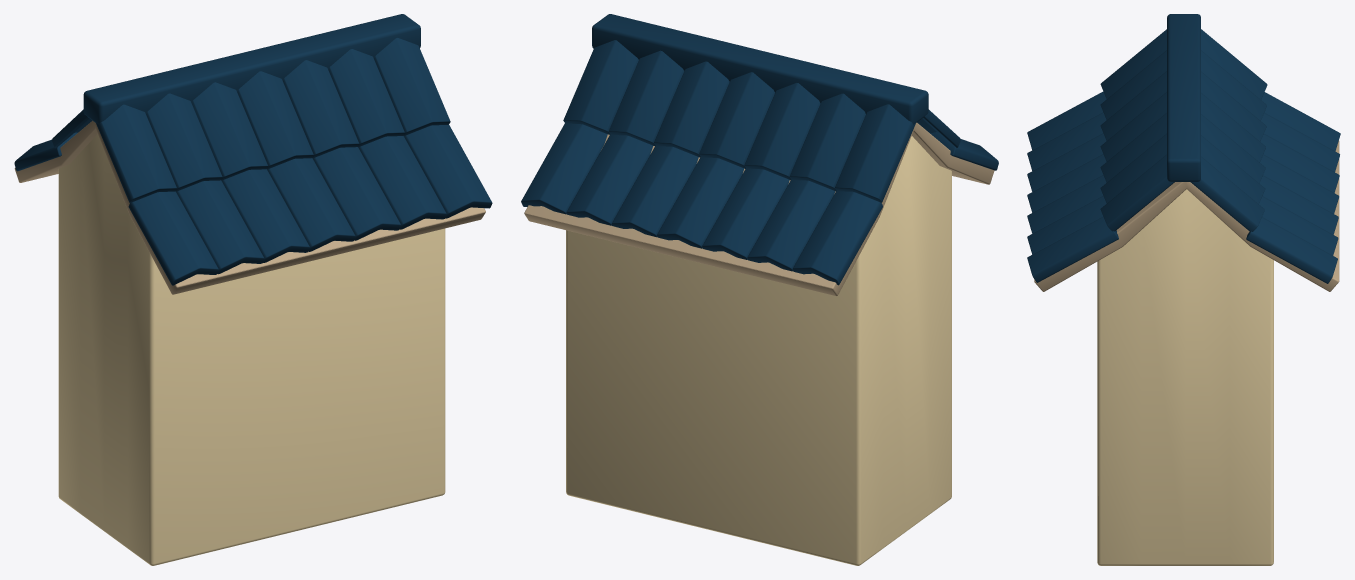
The model's file is Wall_short.fbx.
3 views of the same model, side by side, from view 1: azimuth 30°, elevation 25°; view 2: azimuth 150°, elevation 25°; view 3: azimuth 270°, elevation 25° (orthographic). The views are drawn at different scales.
Parts seen in each view (by area): view 1: Wall_short; view 2: Wall_short; view 3: Wall_short.
Boxes of the visible parts, x1,y1,x2,y2 form: Wall_short: [14, 14, 492, 565]; Wall_short: [521, 14, 998, 565]; Wall_short: [1027, 14, 1340, 565].
Bounding box in the file's own units: 1991 × 2599 × 1787.
